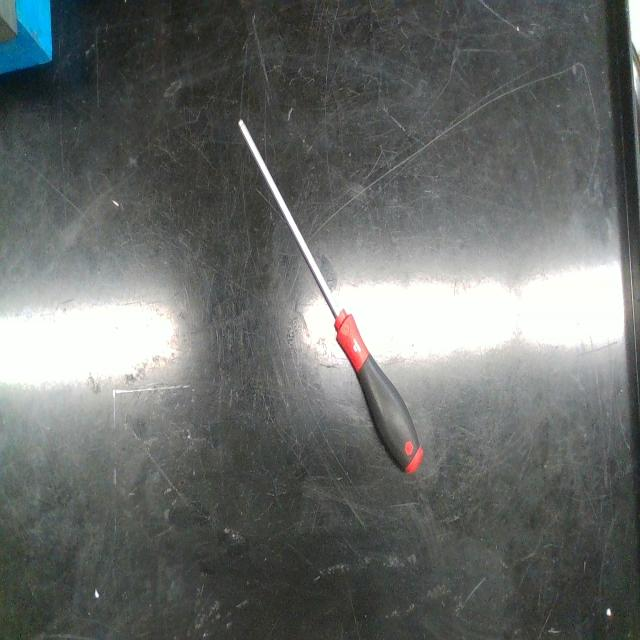Screwdriver: (239, 120, 424, 473)
